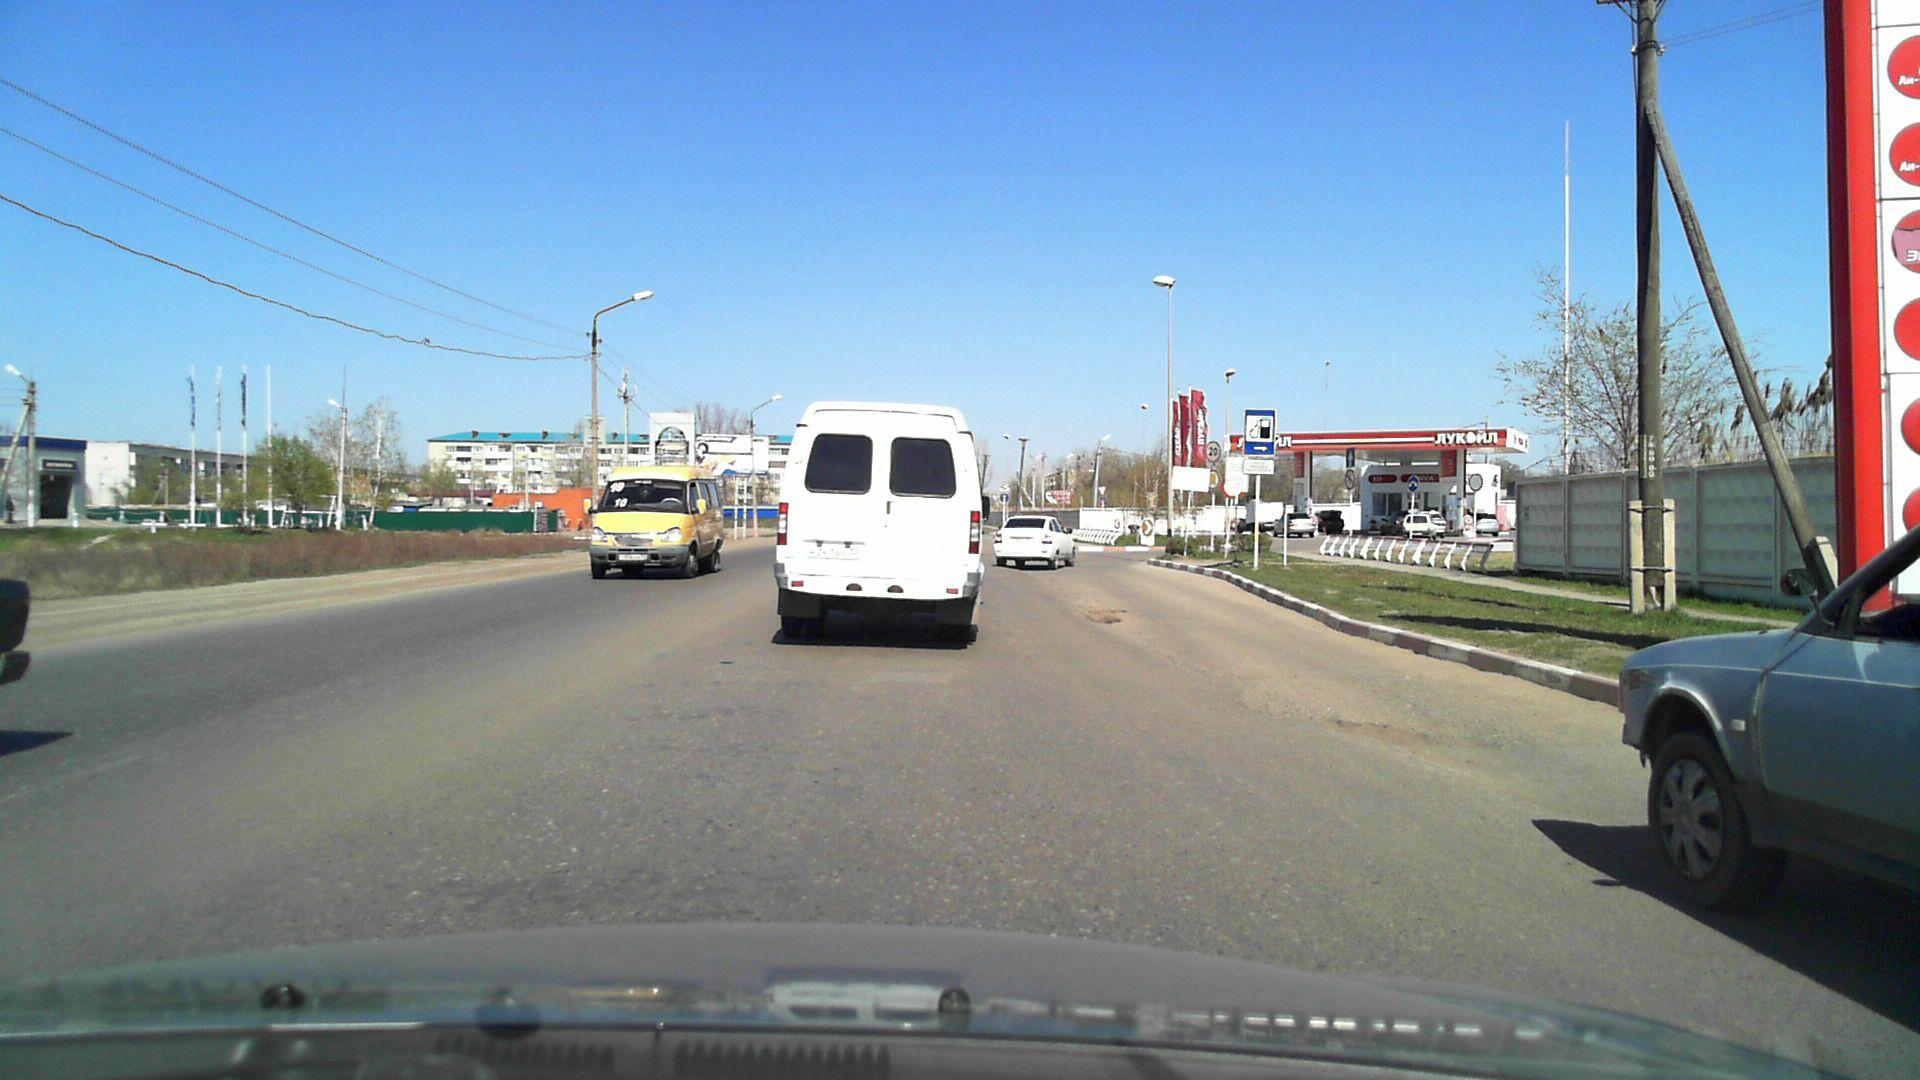2_4: (1097, 485, 1106, 495)
3_2: (1468, 473, 1484, 491)
3_24: (1204, 440, 1224, 463)
3_32: (1207, 469, 1222, 491)
4_1_1: (1000, 493, 1009, 504)
4_2_3: (1407, 476, 1420, 491)
5_5: (1346, 448, 1356, 467)
5_6: (1098, 495, 1106, 508)
7_3: (1244, 409, 1275, 454)
